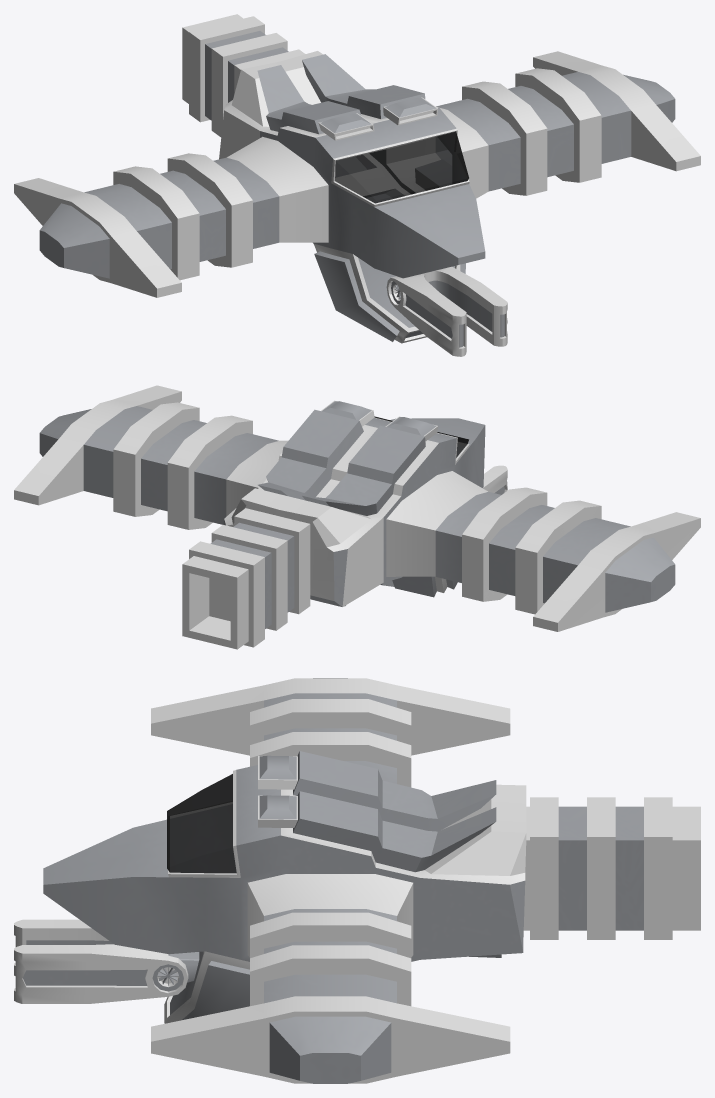
File: CBD.fbx
The picture shows the model from 3 angles, top to bottom: view 1: azimuth 30°, elevation 25°; view 2: azimuth 150°, elevation 25°; view 3: azimuth 270°, elevation 25°; orthographic projection. The views are drawn at different scales.
Visible parts, largest first — view 1: CBD; view 2: CBD; view 3: CBD.
Boxes of the visible parts, bbox=[...] form: CBD: bbox=[14, 14, 700, 356]; CBD: bbox=[14, 385, 700, 649]; CBD: bbox=[14, 678, 700, 1083].
Bounding box in the file's own units: 8.9 × 2.8 × 6.89.
